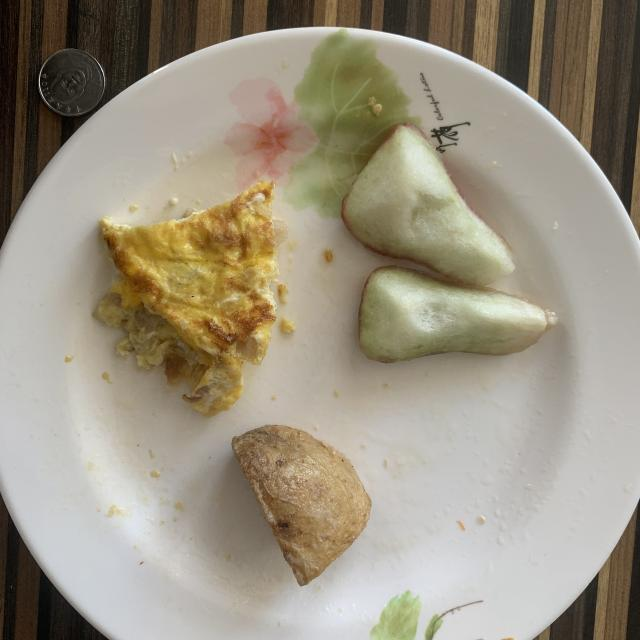coin: (39, 49, 105, 116)
fried potato: (232, 425, 371, 586)
